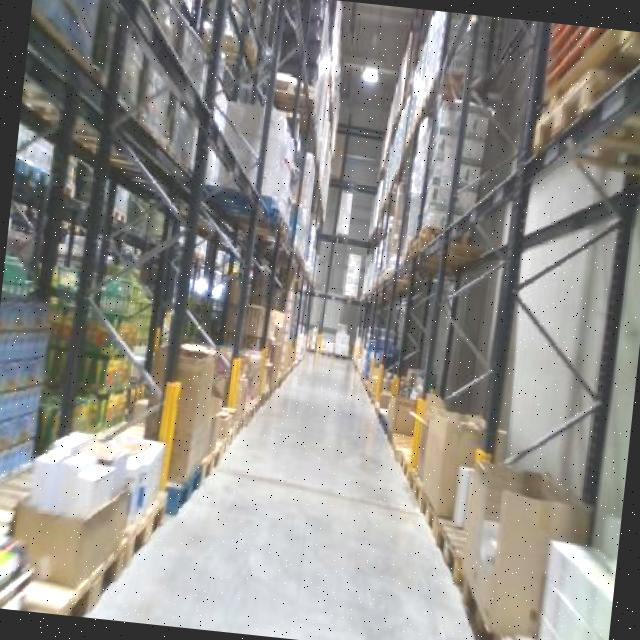pallet: (526, 50, 633, 162), (34, 516, 134, 621), (114, 481, 172, 563)
